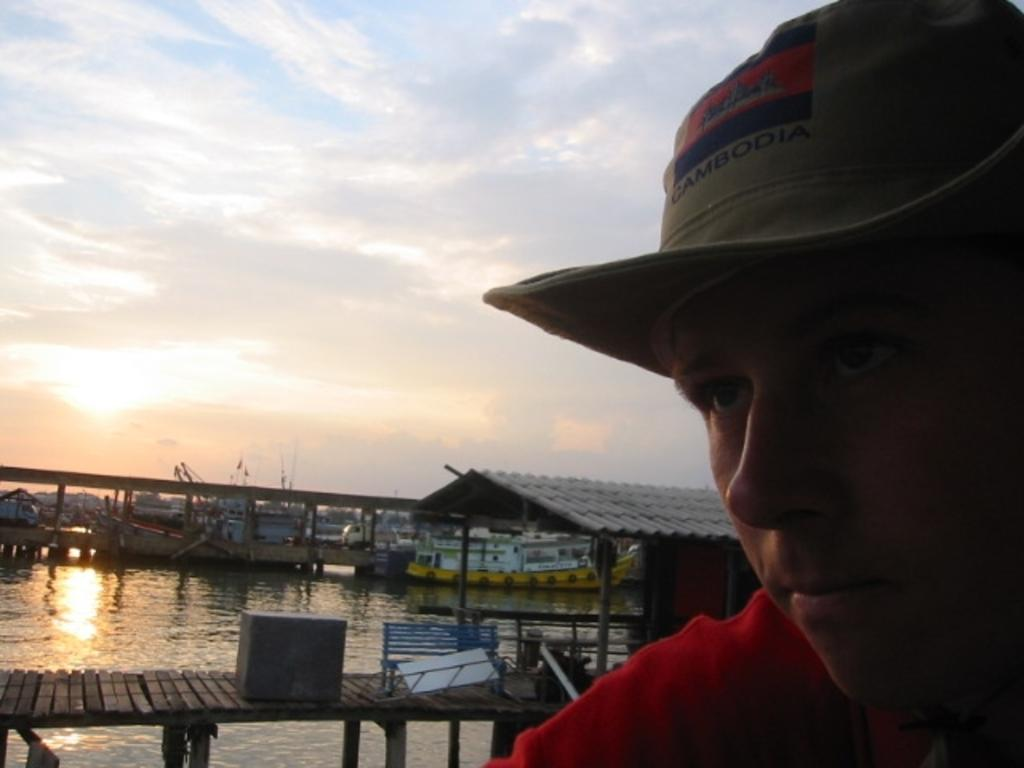Hat: (478, 0, 1022, 379)
